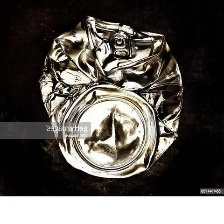can: (36, 13, 185, 179)
